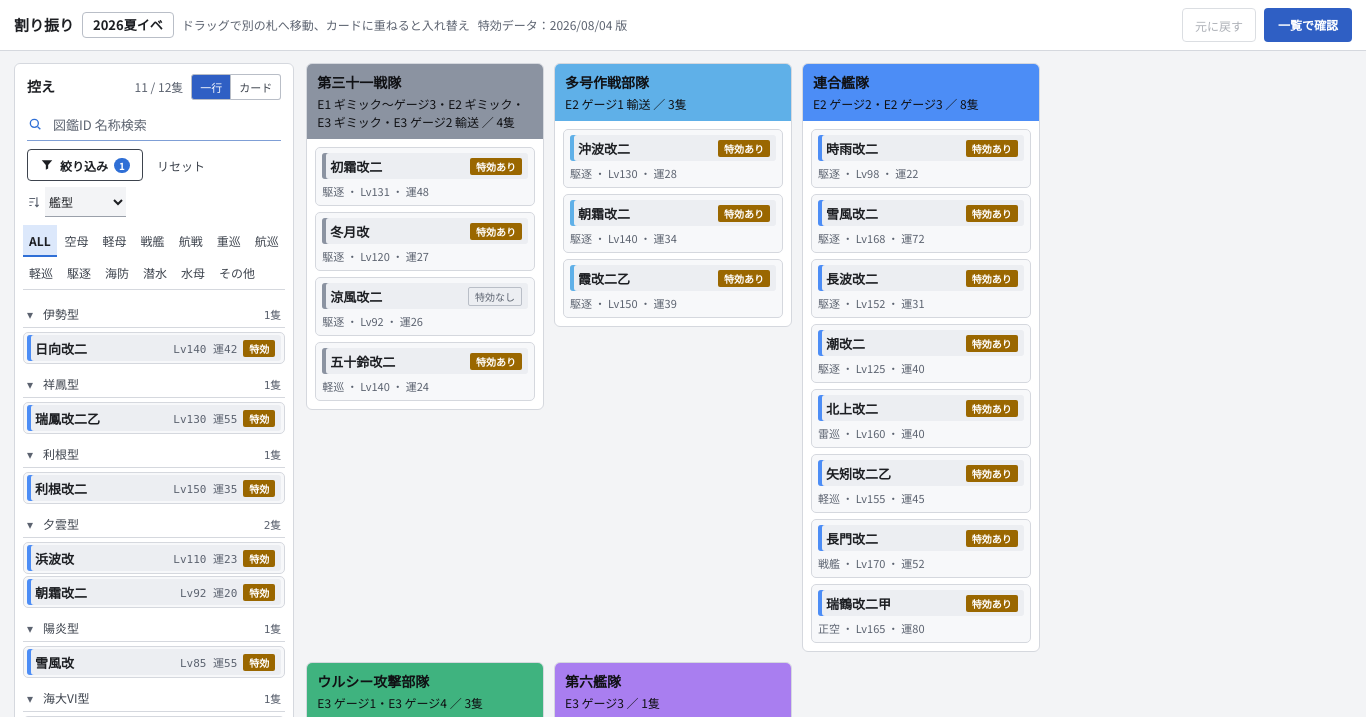
Test case: 割り振り画面の中身（AssignScreen） › 検索 › 条件に合う艦がいなければ「条件に合う艦はいません」と出し、表示数は 0
In the search field named "図鑑ID・名称で検索": (165, 124) [49,108,281,140], type "存在しない艦"
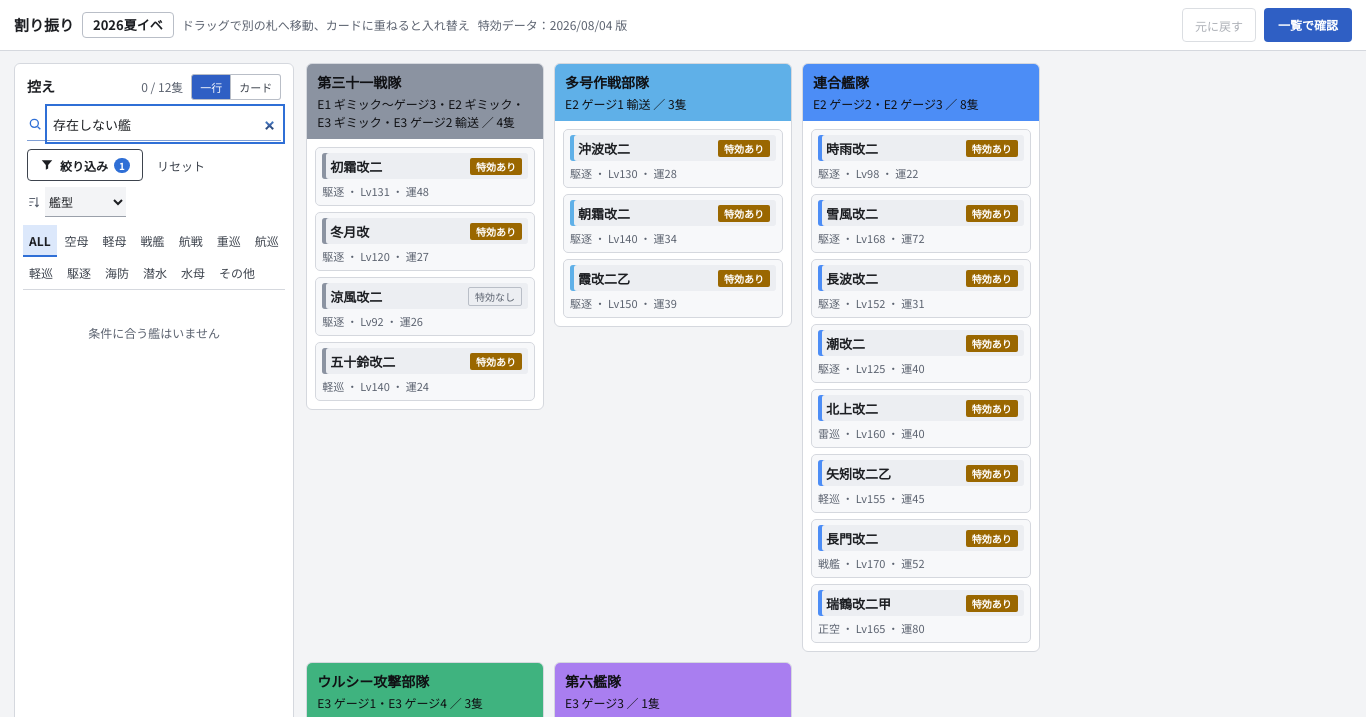
Expected: the text "条件に合う艦はいません" is shown, [88,324,220,341]
